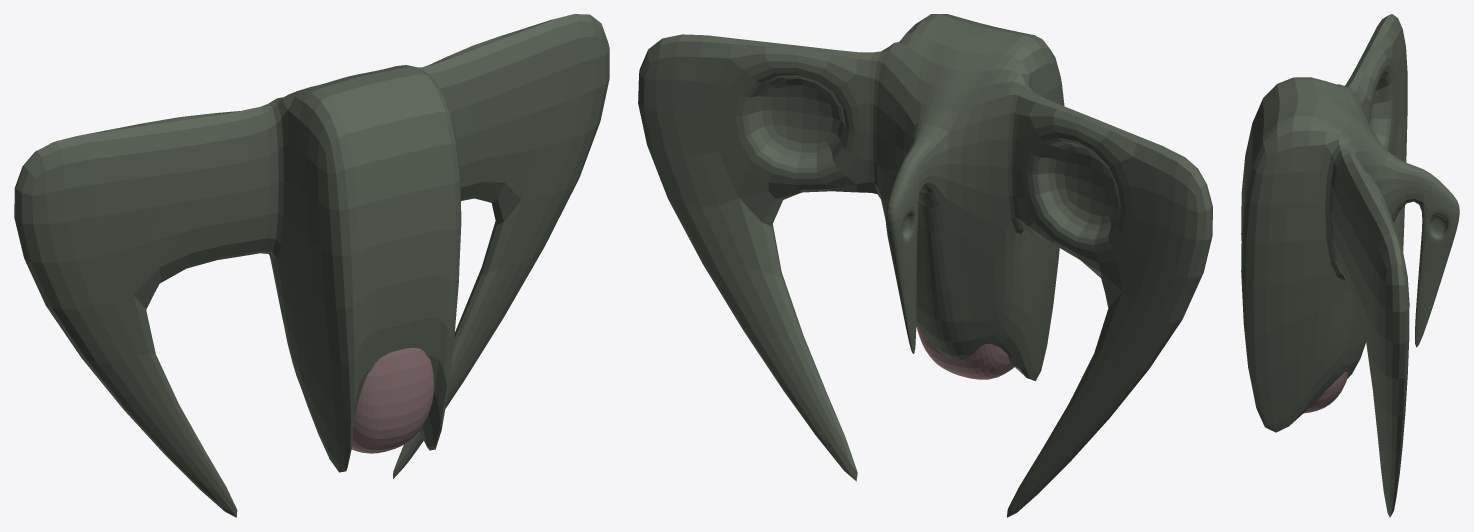
File: NaveInimiga.fbx
3 views of the same model, side by side, from view 1: azimuth 30°, elevation 25°; view 2: azimuth 150°, elevation 25°; view 3: azimuth 270°, elevation 25° (orthographic). The views are drawn at different scales.
Parts seen in each view (by area): view 1: Cube; view 2: Cube; view 3: Cube.
Part boxes in pixels (x1,y1,x2,y2): Cube: [14, 14, 609, 517]; Cube: [638, 14, 1212, 517]; Cube: [1241, 14, 1459, 517].
Size of the model in its own units: 824 by 600 by 306.
